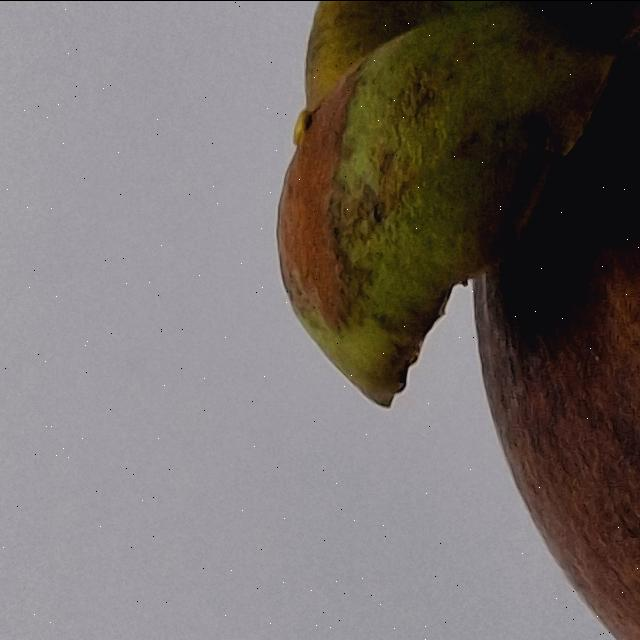mangosteen: (135, 0, 640, 640)
